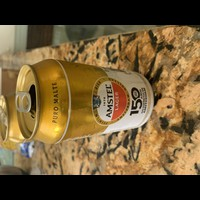amstel: (8, 58, 164, 143)
